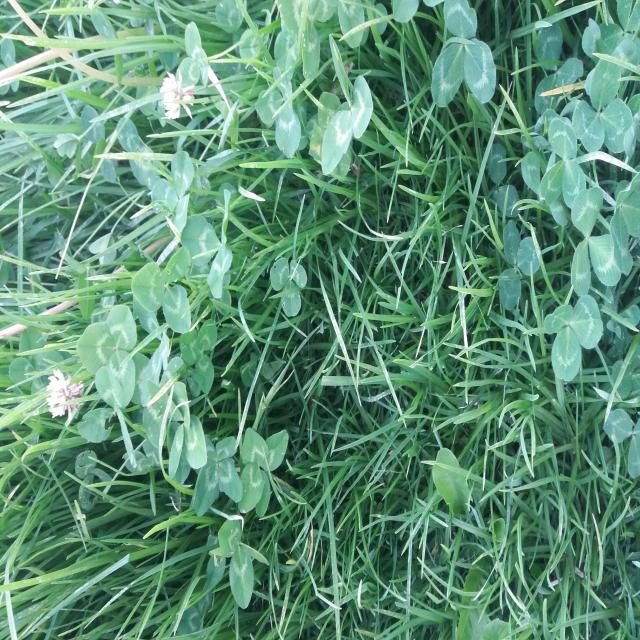Four Leaf Clover: (147, 378, 201, 479), (9, 326, 64, 409), (251, 428, 289, 517), (205, 435, 243, 505)
